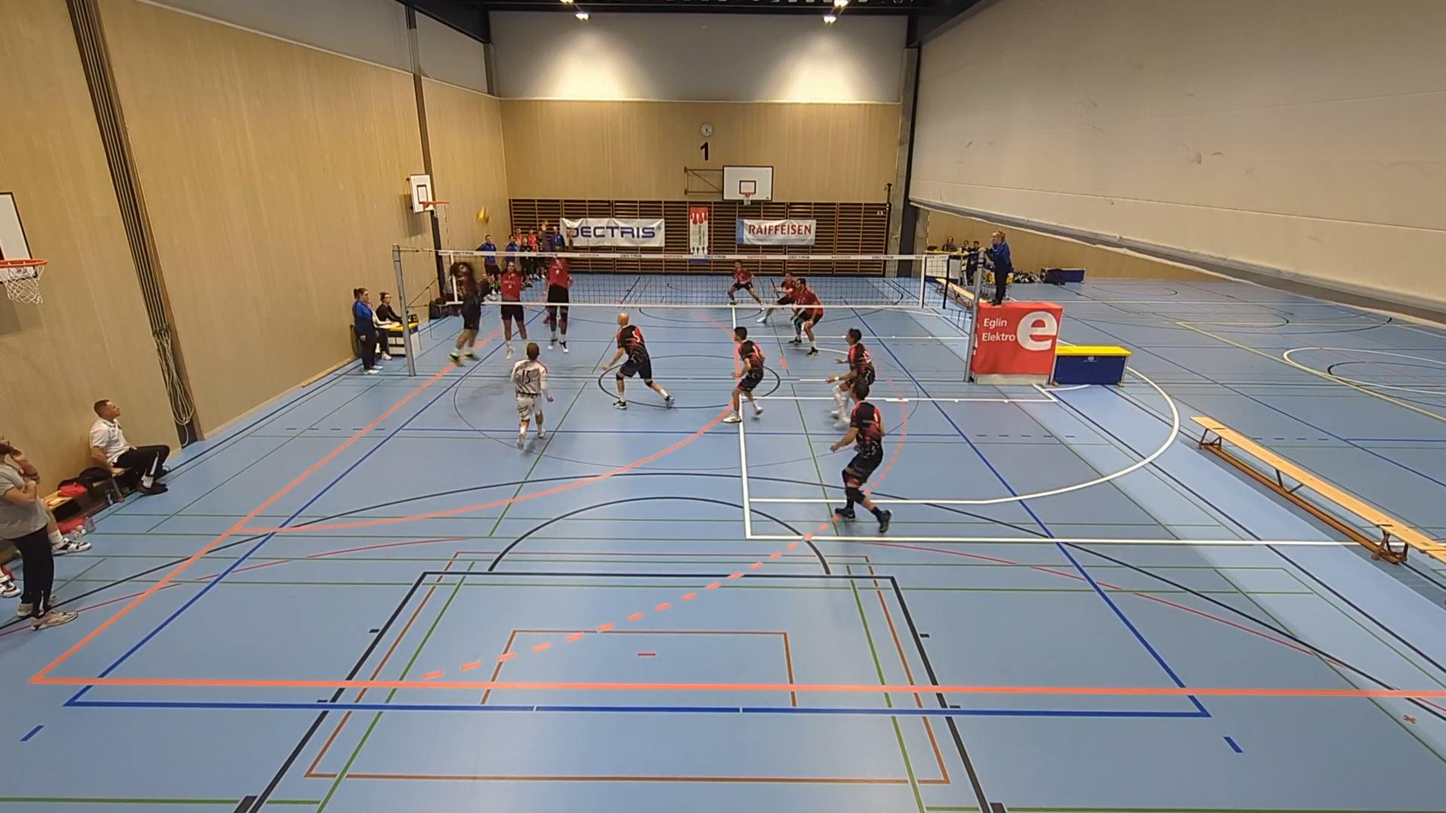Attack: (441, 259, 501, 368)
Block: (535, 233, 586, 352), (492, 241, 530, 367)
Player: (831, 381, 891, 532), (604, 313, 673, 409), (826, 327, 875, 422), (511, 342, 553, 447), (723, 327, 764, 422), (790, 278, 823, 355), (728, 261, 761, 305), (775, 270, 797, 306)
ball: (475, 210, 488, 226)
